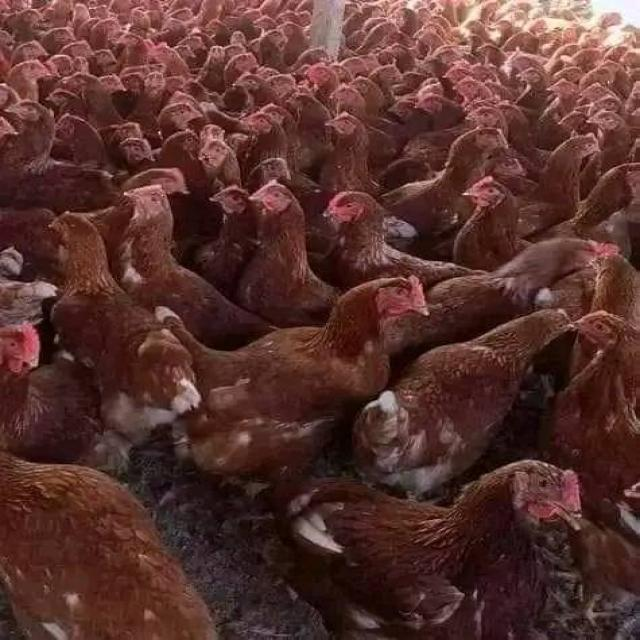Healthy: (255, 429, 582, 625), (154, 249, 430, 469)
